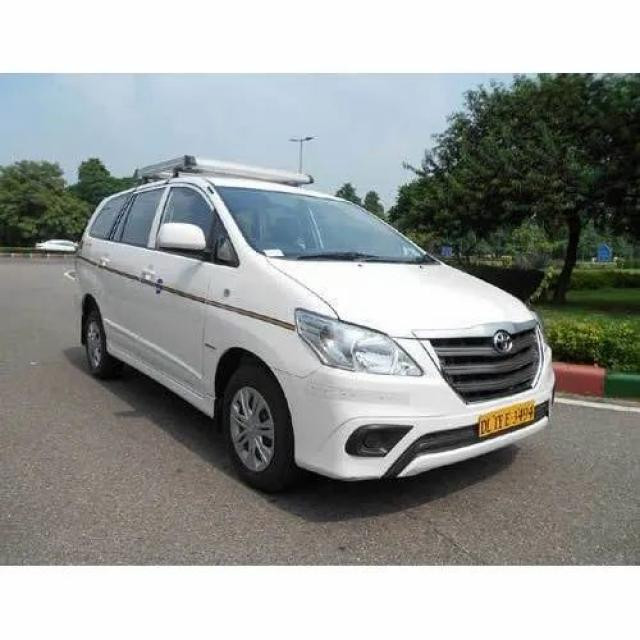light_vehicle: (66, 156, 556, 494)
